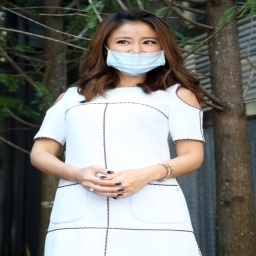incorrectlyWear: (100, 29, 170, 75)
